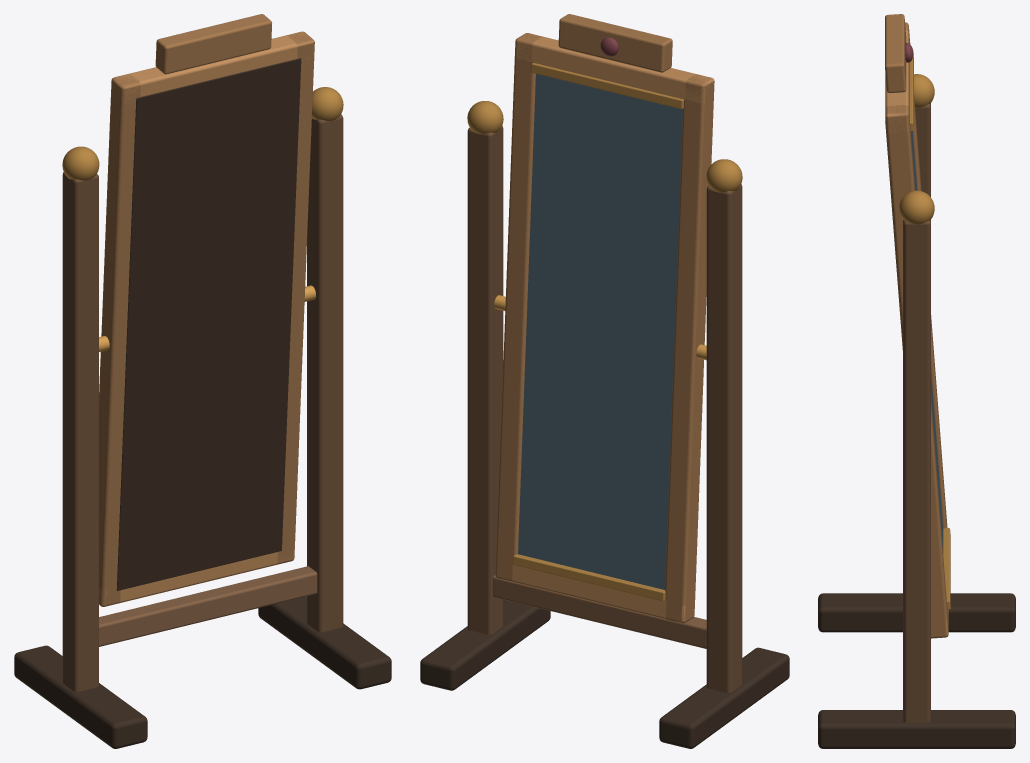
File: detail_standing_mirror.glb
3 views of the same model, side by side, from view 1: azimuth 30°, elevation 25°; view 2: azimuth 150°, elevation 25°; view 3: azimuth 270°, elevation 25° (orthographic). The views are drawn at different scales.
Visible parts, largest first — view 1: wood, metal; view 2: wood, object 3, metal; view 3: wood, metal, object 3.
Boxes of the visible parts, box(x1,y1,x2,y2) form: wood: box(14, 14, 391, 748); metal: box(99, 32, 317, 646); wood: box(420, 14, 789, 748); object 3: box(518, 74, 682, 589); metal: box(493, 34, 714, 648); wood: box(818, 14, 1015, 748); metal: box(885, 23, 948, 638); object 3: box(910, 131, 943, 553).
Size of the model in its own units: 0.8 by 1.8 by 0.5.
